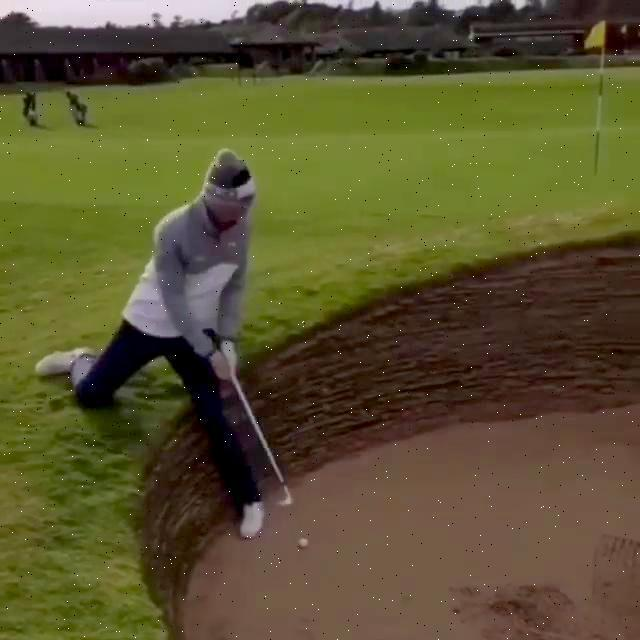ClubHead: (276, 497, 293, 507)
GolfBall: (296, 536, 309, 549)
